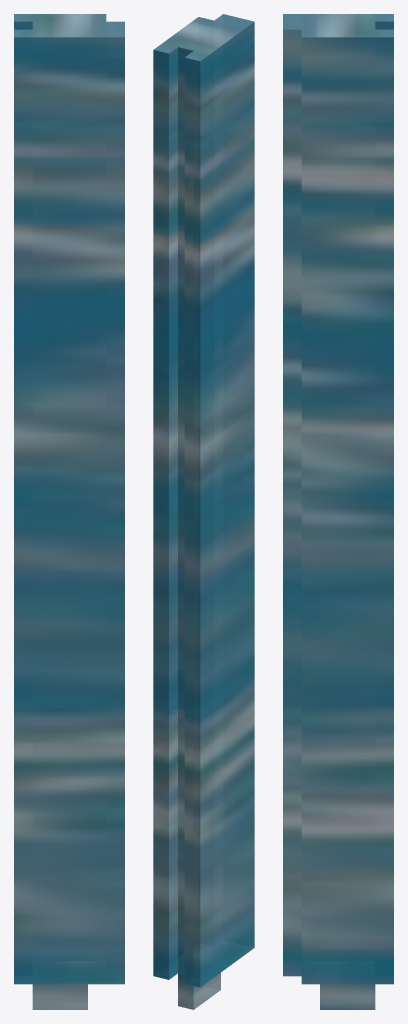
The model's file is original-4.obj.
The picture shows the model from 3 angles, left to right: view 1: azimuth 90°, elevation 25°; view 2: azimuth 150°, elevation 25°; view 3: azimuth 270°, elevation 25°; orthographic projection. The views are drawn at different scales.
Visible parts, largest first — view 1: left_right_side_post1/left_right_side_post/mesh9/mesh9-geometry#; view 2: left_right_side_post1/left_right_side_post/mesh9/mesh9-geometry#; view 3: left_right_side_post1/left_right_side_post/mesh9/mesh9-geometry#.
Part boxes in pixels (bbox=[...]): left_right_side_post1/left_right_side_post/mesh9/mesh9-geometry#: bbox=[14, 14, 124, 1009]; left_right_side_post1/left_right_side_post/mesh9/mesh9-geometry#: bbox=[153, 14, 254, 1009]; left_right_side_post1/left_right_side_post/mesh9/mesh9-geometry#: bbox=[283, 14, 393, 1009].
Bounding box in the file's own units: 0.0328 × 0.6391 × 0.0655.
